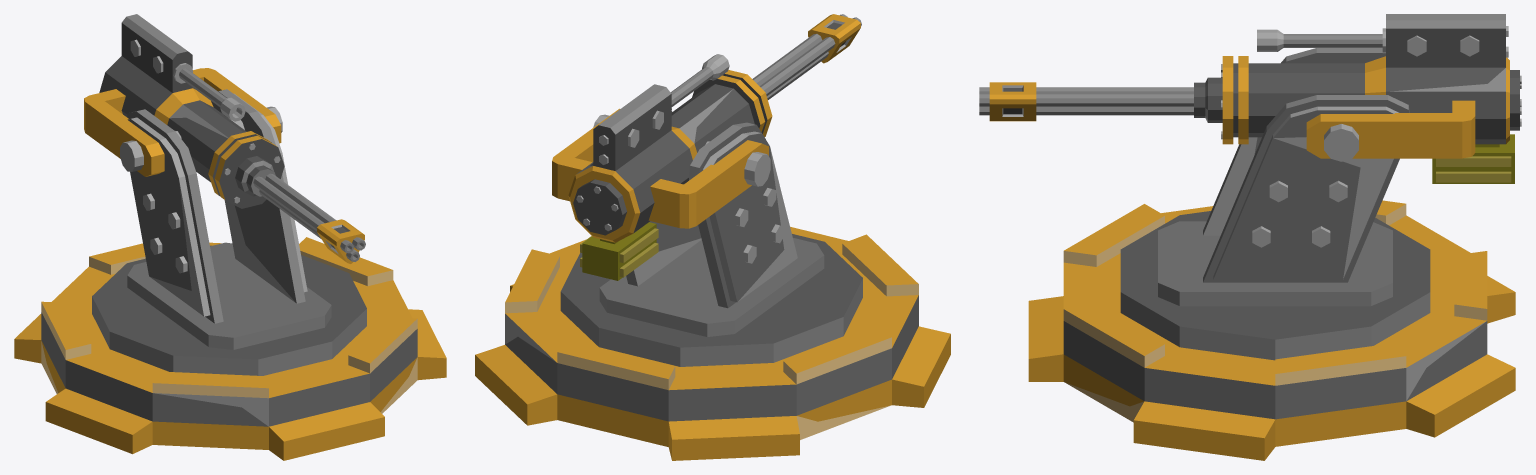
Rendered from tower_minigun_yellow_2.fbx.
The picture shows the model from 3 angles, left to right: view 1: azimuth 30°, elevation 25°; view 2: azimuth 150°, elevation 25°; view 3: azimuth 270°, elevation 25°; orthographic projection. The views are drawn at different scales.
Parts seen in each view (by area): view 1: top_minigun_yellow_2, tower_minigun_yellow_2; view 2: top_minigun_yellow_2, tower_minigun_yellow_2; view 3: top_minigun_yellow_2, tower_minigun_yellow_2.
Part boxes in pixels (bbox=[...]): top_minigun_yellow_2: bbox=[84, 14, 366, 375]; tower_minigun_yellow_2: bbox=[14, 237, 446, 460]; top_minigun_yellow_2: bbox=[552, 14, 862, 366]; tower_minigun_yellow_2: bbox=[475, 226, 950, 460]; top_minigun_yellow_2: bbox=[979, 14, 1521, 360]; tower_minigun_yellow_2: bbox=[1028, 200, 1515, 460].
Bounding box in the file's own units: 167 × 120 × 177.
